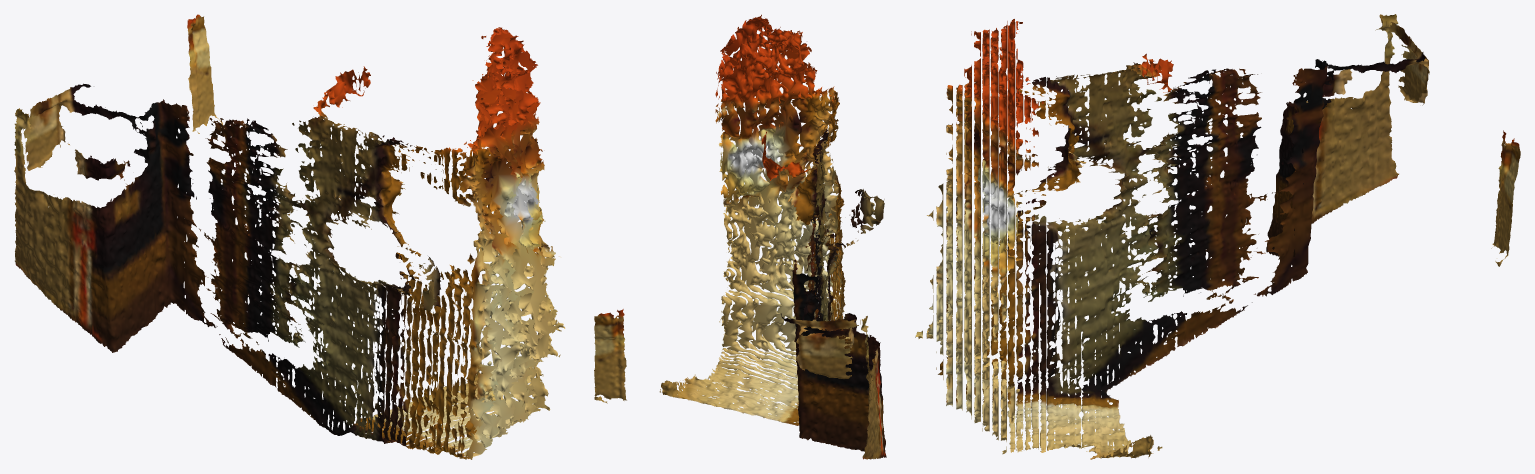
File: color_model_f003_20260323_211735.obj
3 renders of one model, left to right at view 1: azimuth 30°, elevation 25°; view 2: azimuth 150°, elevation 25°; view 3: azimuth 270°, elevation 25°, orthographic. The views are drawn at different scales.
Bounding box in the file's own units: 2.49 × 2.73 × 3.46.
